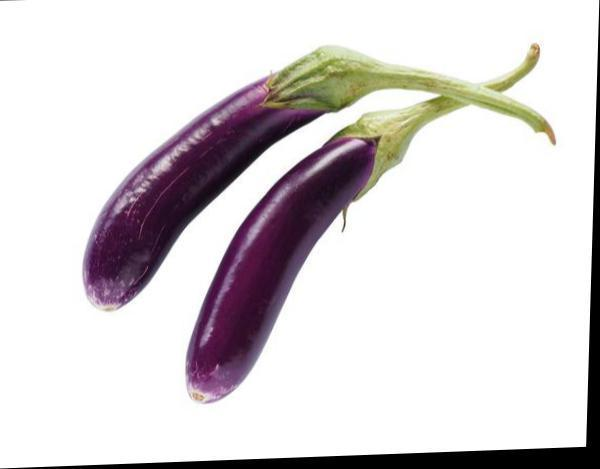eggplant: (88, 34, 477, 385)
